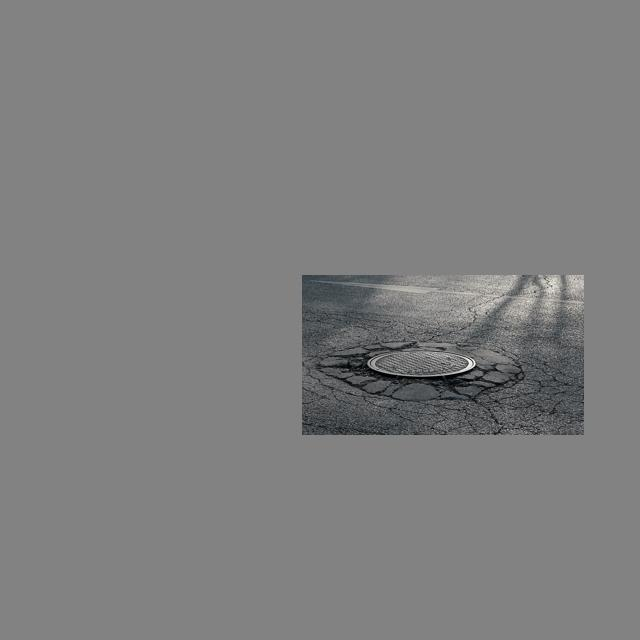circle: (328, 334, 525, 408)
